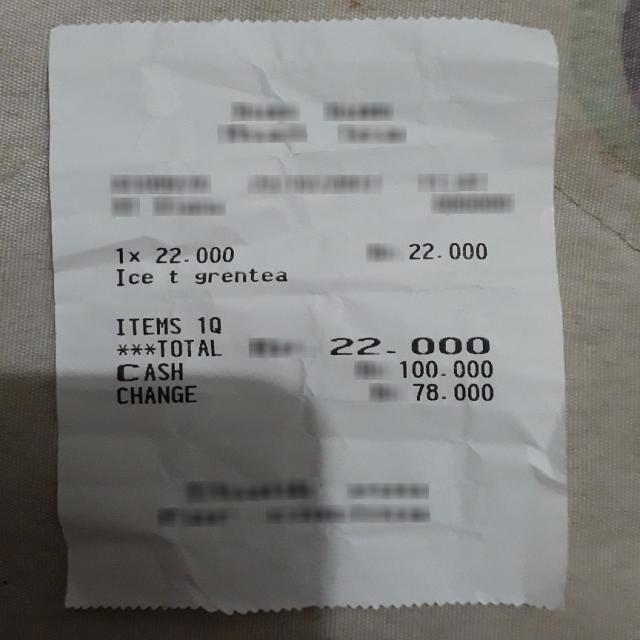kertas: (48, 16, 569, 615)
